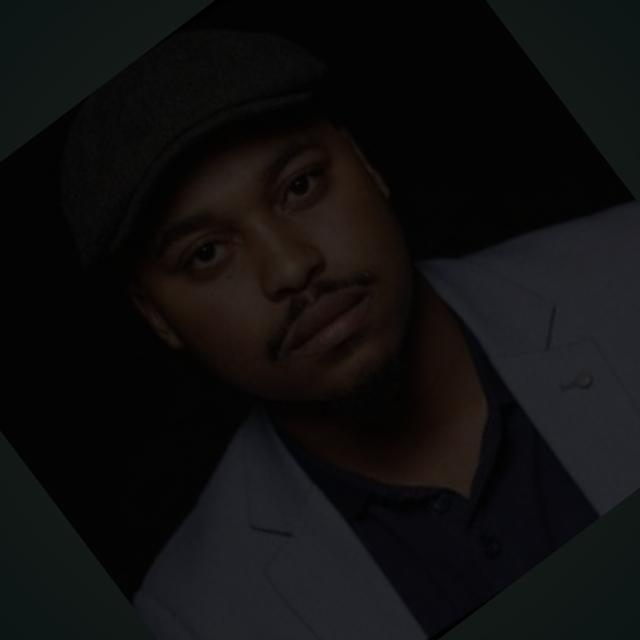Natural: (116, 87, 448, 428)
